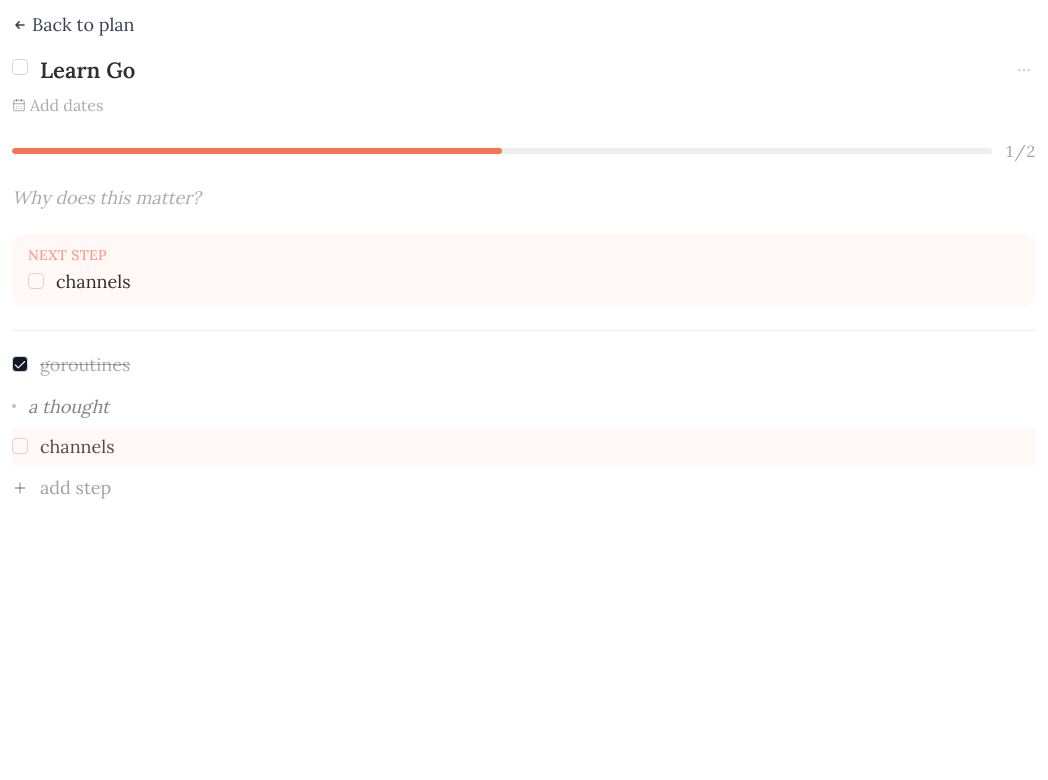
Scenario: MilestonePage steps and next step › add step (R31, G9) › should keep the text and show the existing error when the create fails
This screenshot has width=1048, height=780.
Click the button "add step" at (62, 488), box [12,469,111,507]
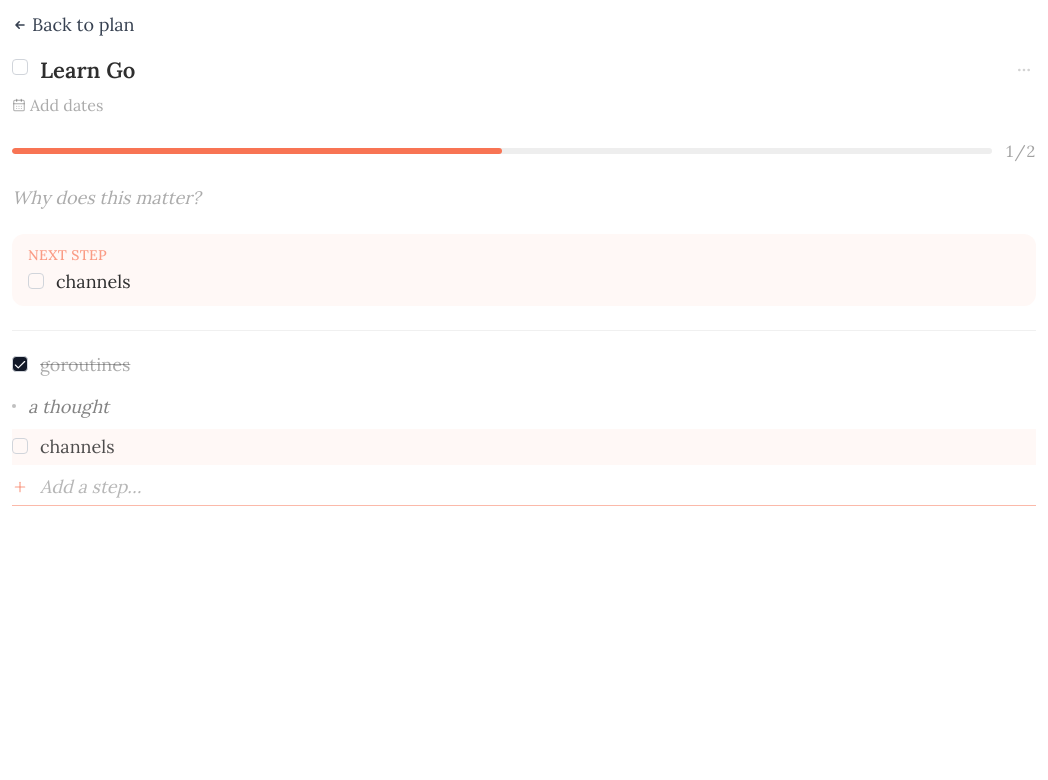
Type "interfaces" into the field named "Add a step to Learn Go" at (538, 487), box [40,475,1036,499]
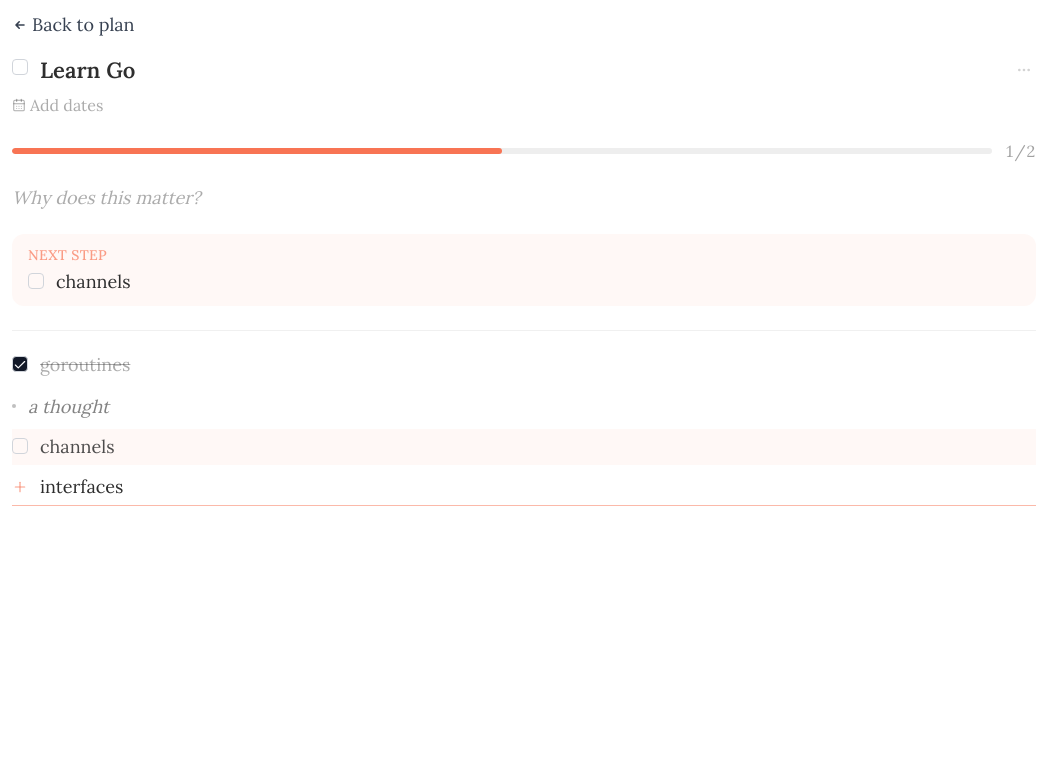
Press Enter in the field named "Add a step to Learn Go", box [40,475,1036,499]
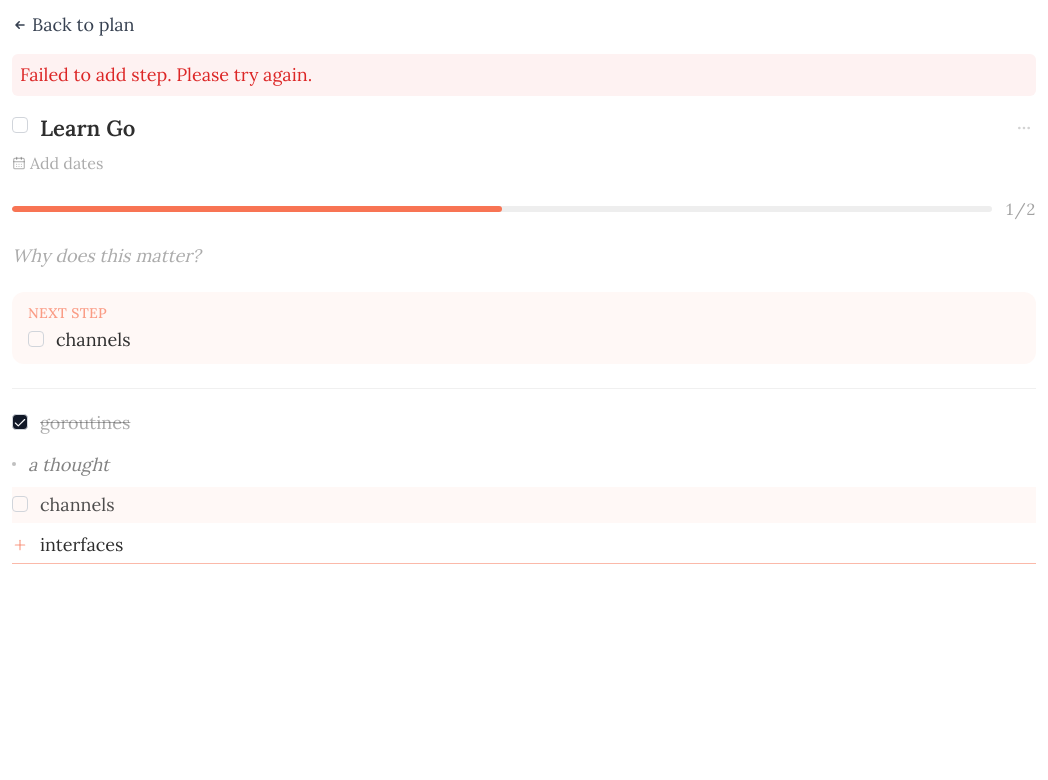
Now the text "Failed to add step. Please try again." is shown, box [12,54,1036,96]
